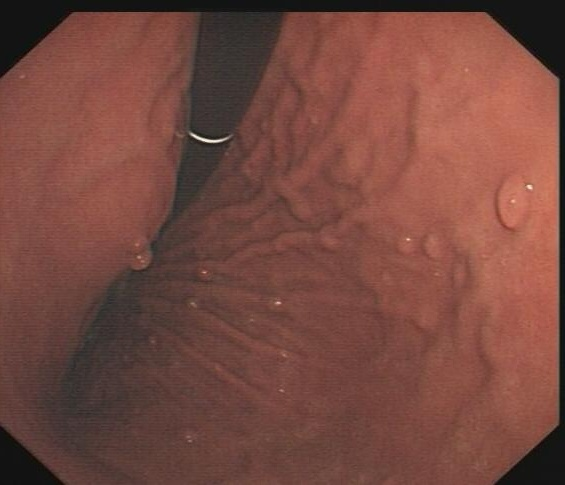Polyp: (482, 168, 537, 237)
